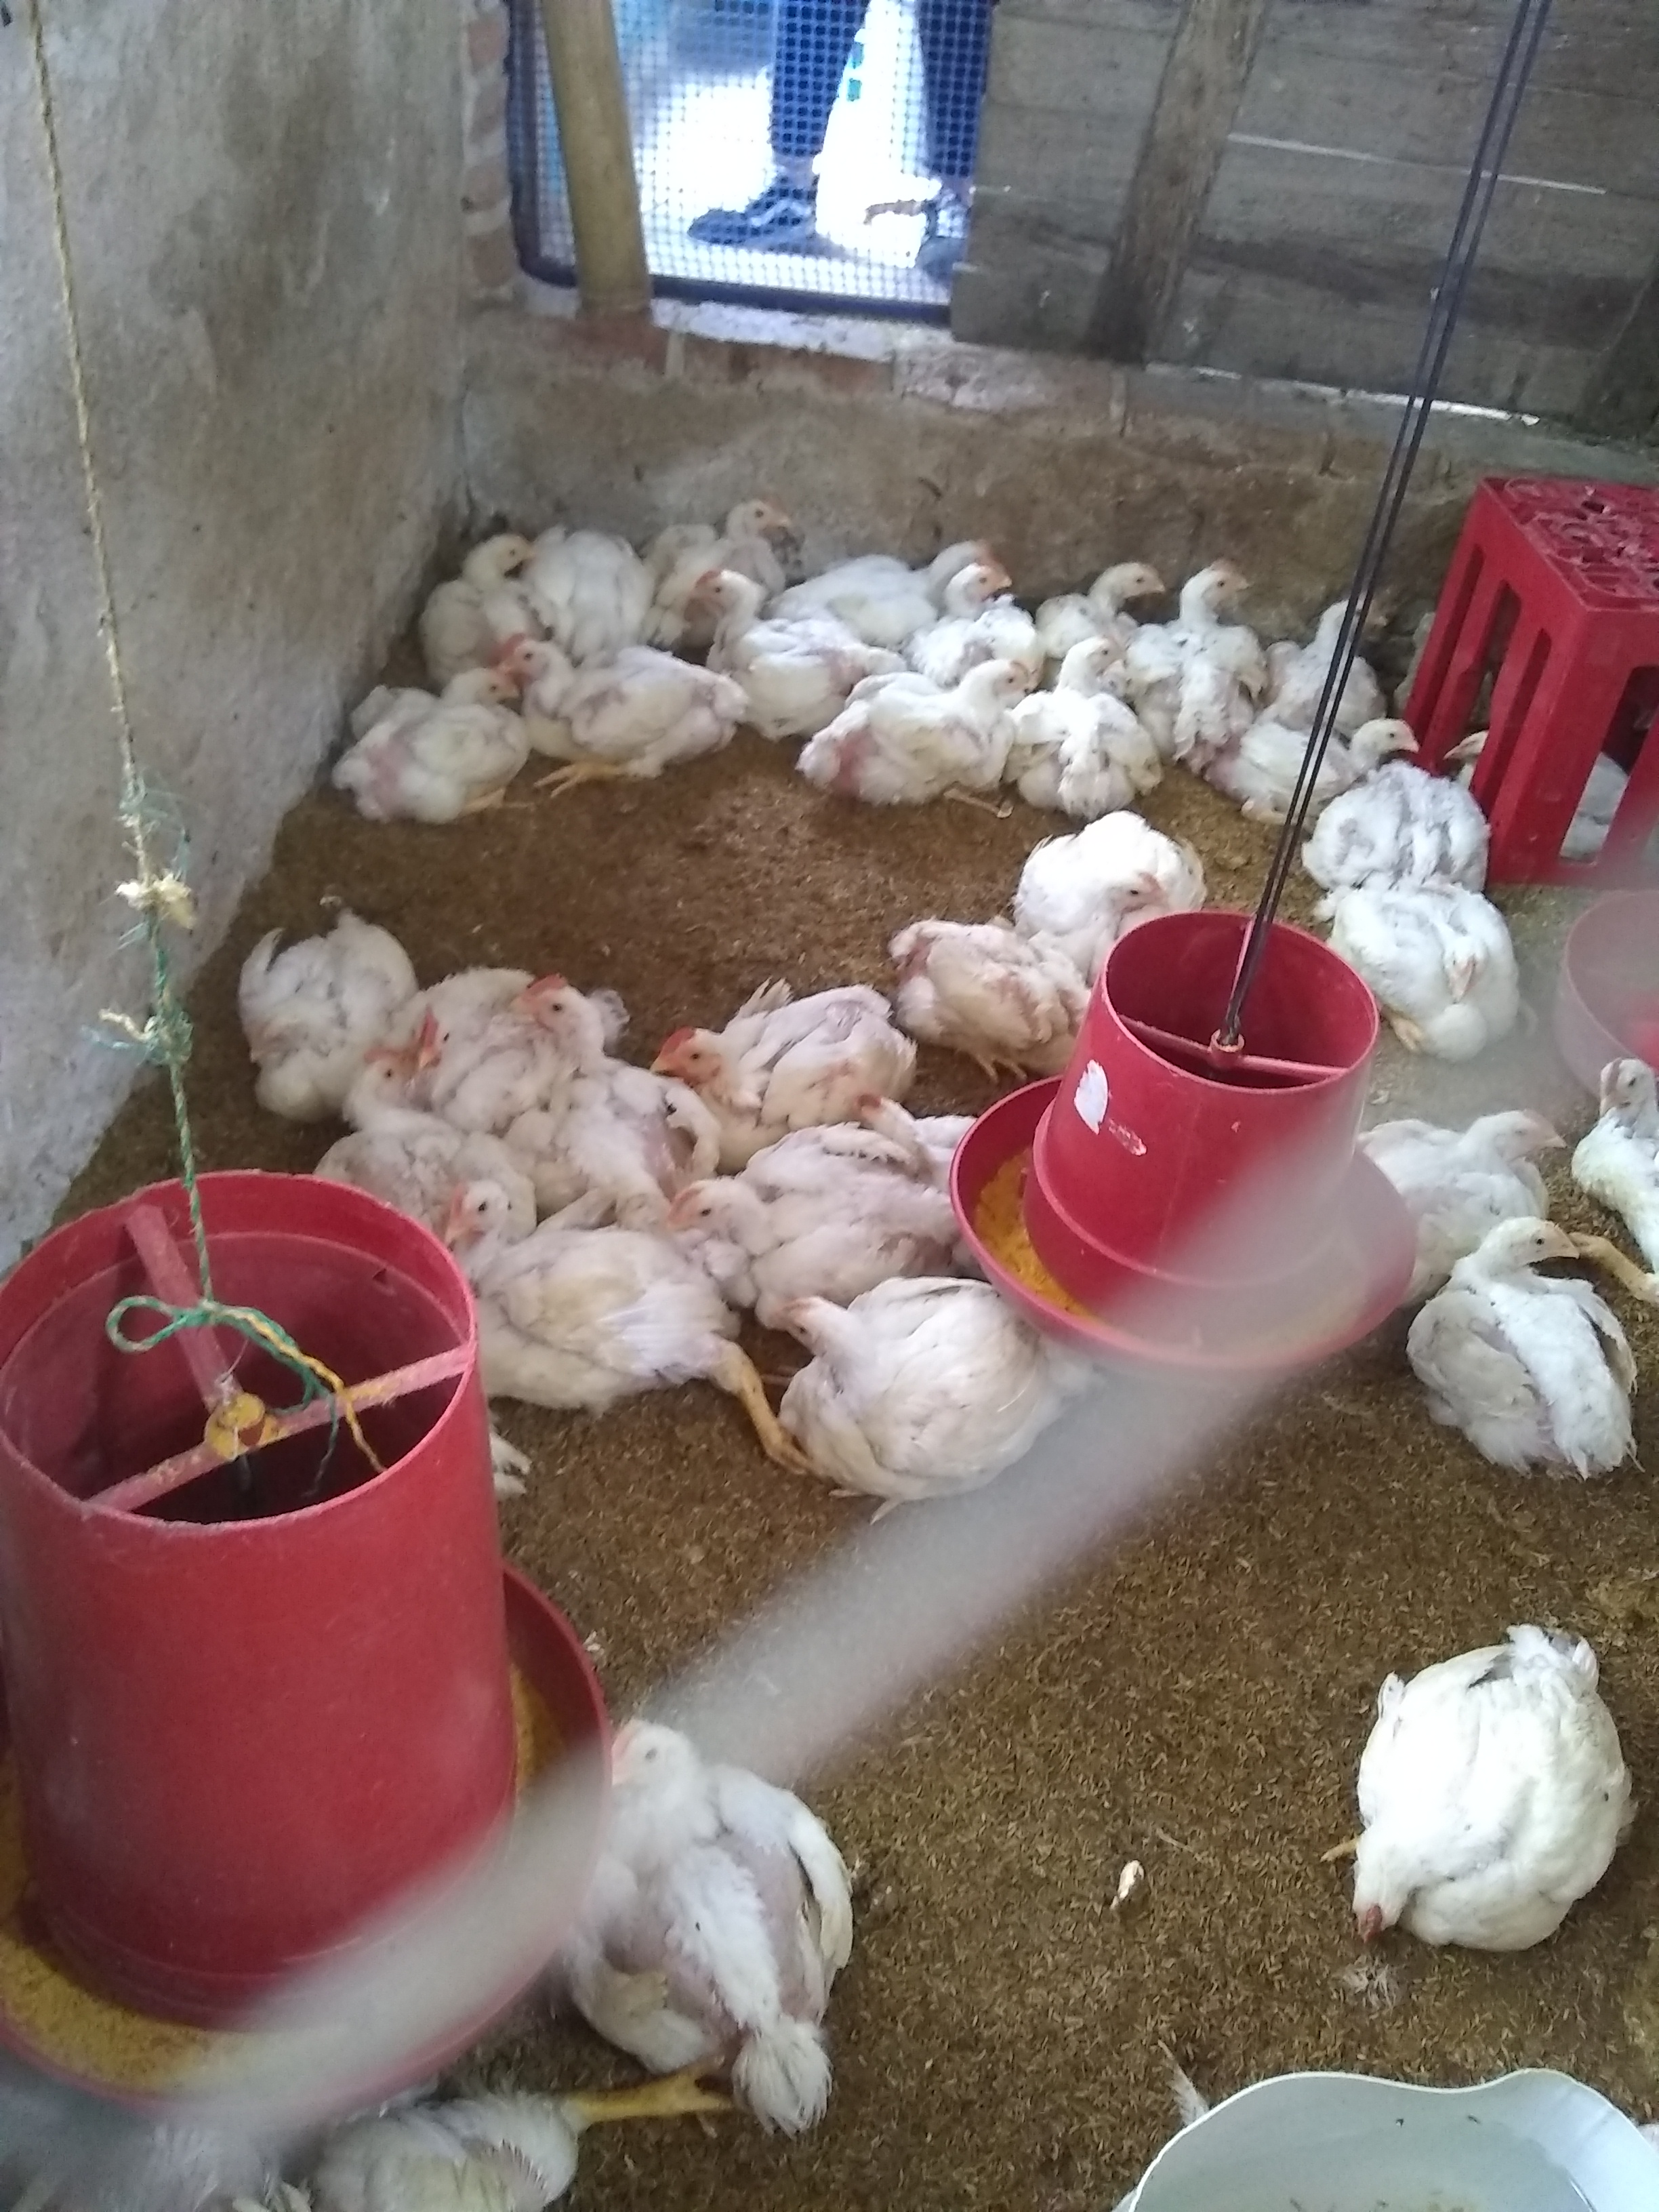Pollos: (554, 1677, 887, 2160), (1326, 1604, 1647, 1963), (765, 1263, 1077, 1521), (441, 1169, 730, 1435), (1419, 1216, 1650, 1493), (232, 2048, 589, 2212), (659, 1137, 946, 1296), (645, 979, 927, 1132), (814, 639, 1037, 808), (908, 894, 1114, 1075), (511, 618, 732, 780), (321, 664, 538, 827), (1328, 885, 1528, 1057), (214, 906, 375, 1109), (683, 564, 887, 721), (1023, 792, 1220, 948), (1314, 770, 1504, 894), (1044, 629, 1162, 822), (1398, 1087, 1567, 1217), (502, 960, 643, 1109), (1568, 1005, 1659, 1237), (406, 514, 533, 674), (532, 505, 666, 639), (845, 1082, 1006, 1174), (1439, 669, 1549, 786), (368, 963, 488, 1068), (1310, 583, 1419, 693), (329, 1036, 420, 1139), (716, 470, 816, 547), (1061, 519, 1169, 589), (1178, 552, 1263, 637), (943, 559, 1030, 643), (1033, 559, 1122, 632), (1342, 714, 1441, 770), (929, 516, 1009, 580)
